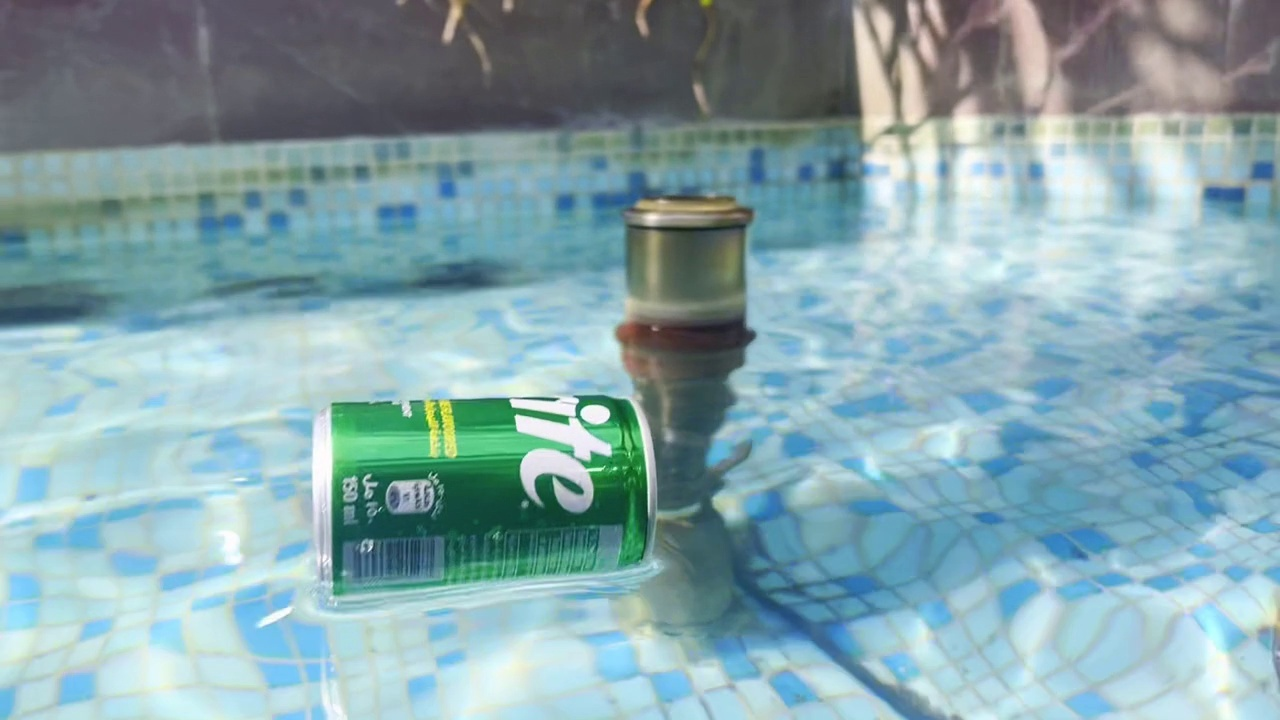debris: (279, 385, 679, 602)
